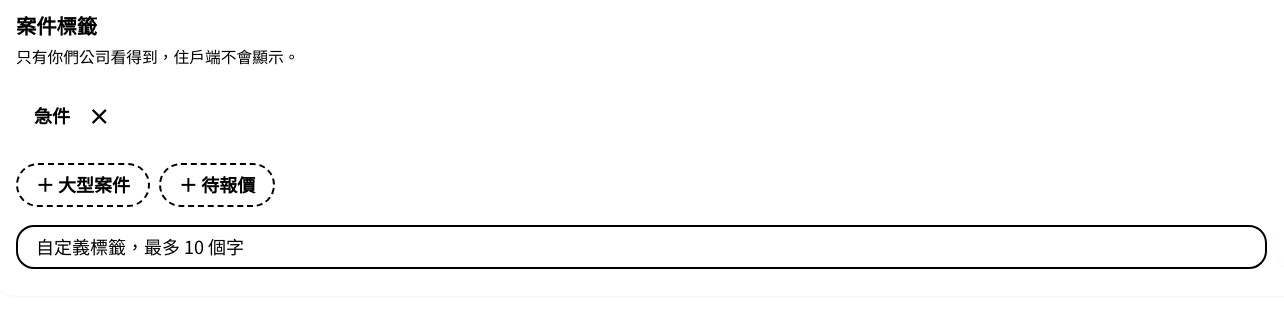
it: CaseTagEditor › 存檔失敗時顯示後端的訊息，畫面上的標籤維持原樣
The image size is (1284, 321).
Click the button named "移除標籤「急件」" at (99, 115), box [74,90,124,140]
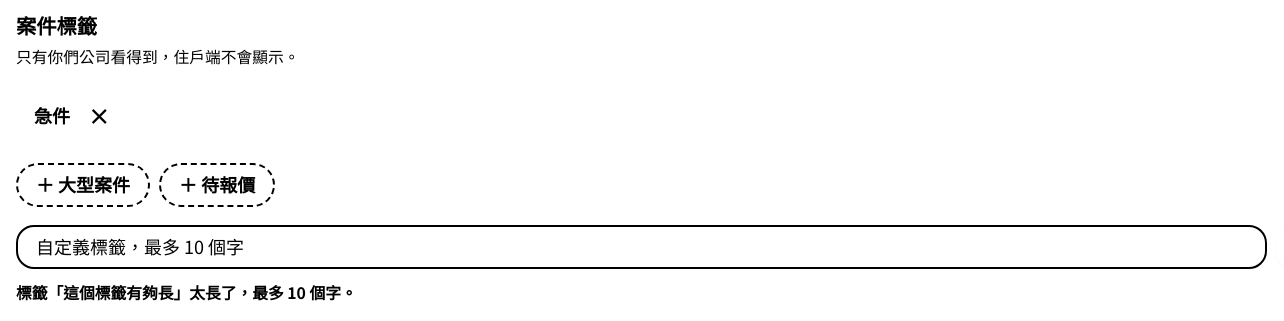
Check: the message shows "太長了", box [16,281,357,304]
